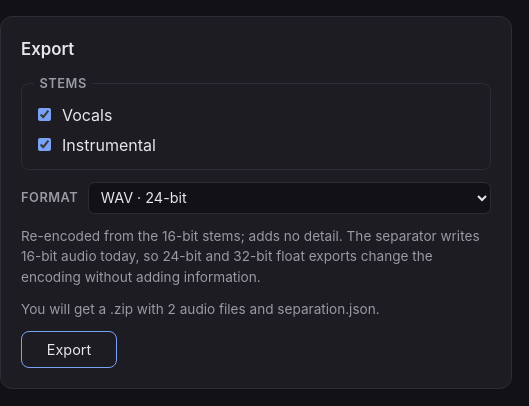
Test: ExportPanel stem selection › says a single stem downloads as one audio file
Click the checkbox labelled "instrumental".
click(44, 145)  # box [38, 138, 51, 151]
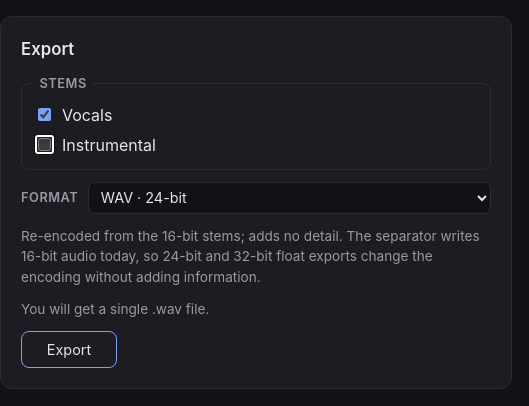
Now the text "You will get a single .wav file." is shown, box [21, 301, 209, 317]
